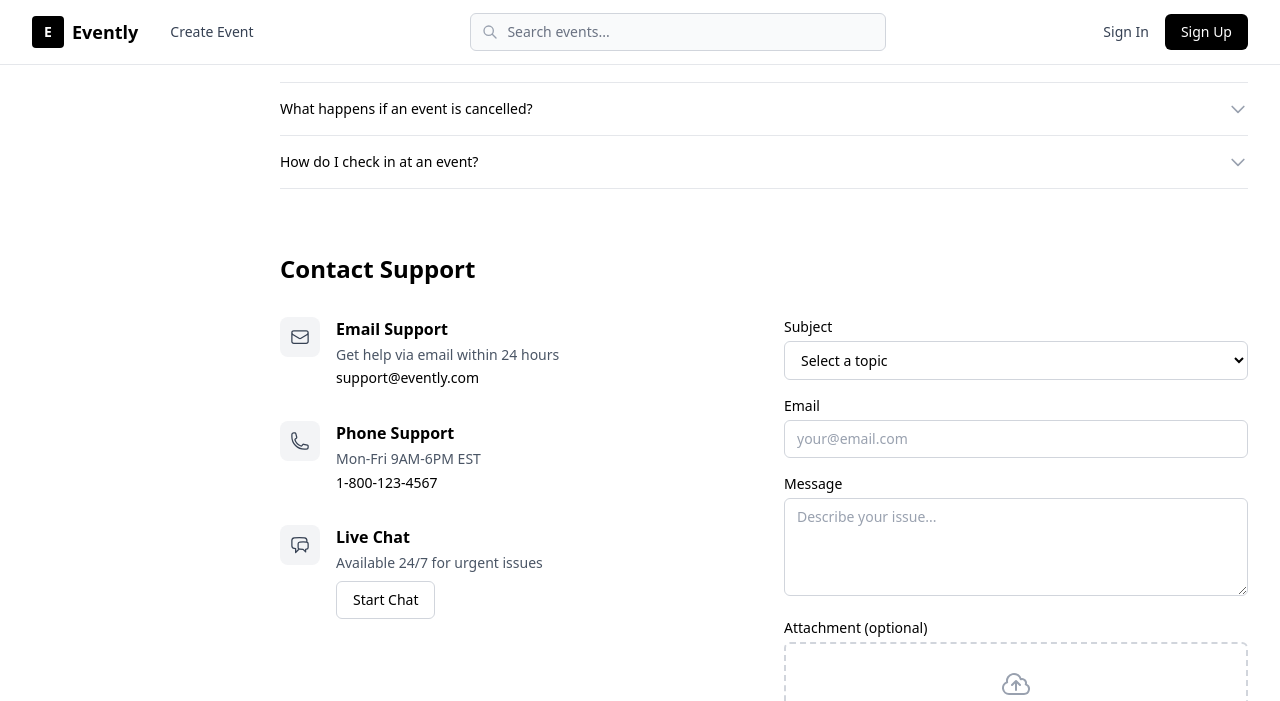
Test: HelpPage › submits the contact form successfully
(page scrolled)
Select "Bug Report" in the dropdown labelled "Subject" at [1016, 360], box left=784, top=341, right=1248, bottom=380
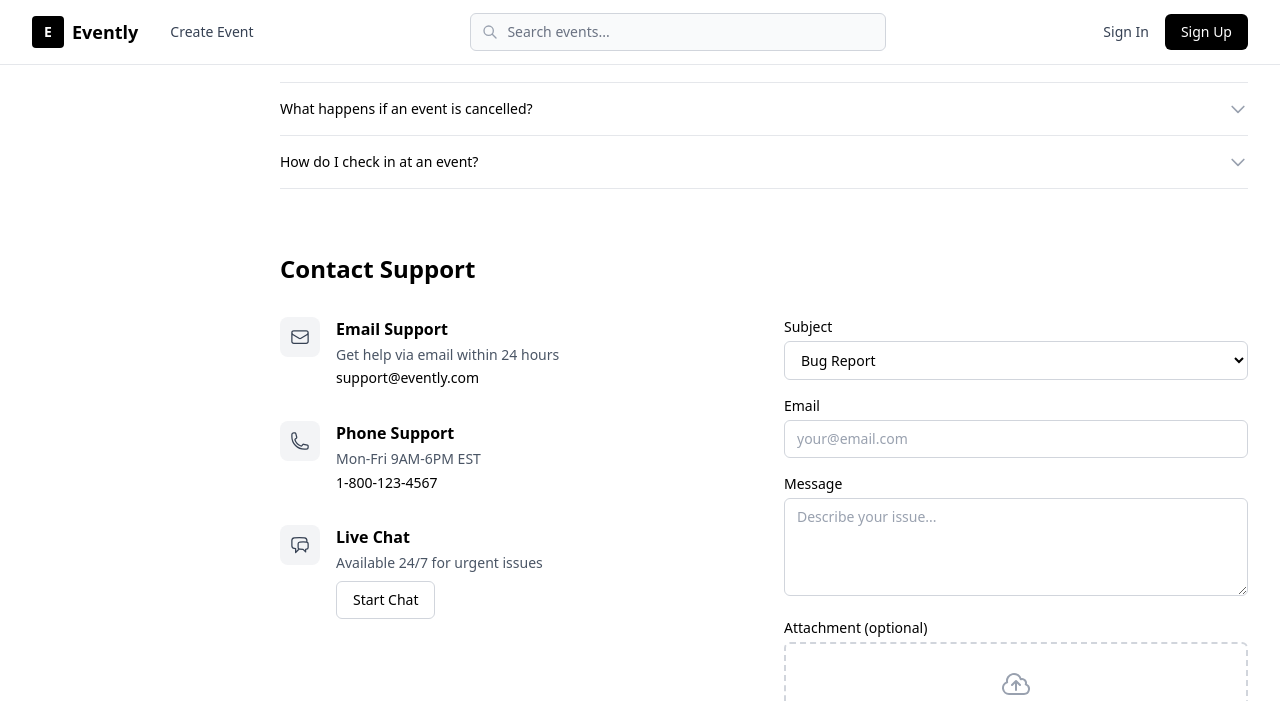
Type "test@example.com" into the field labelled "Email" at [1016, 439], box left=784, top=420, right=1248, bottom=458
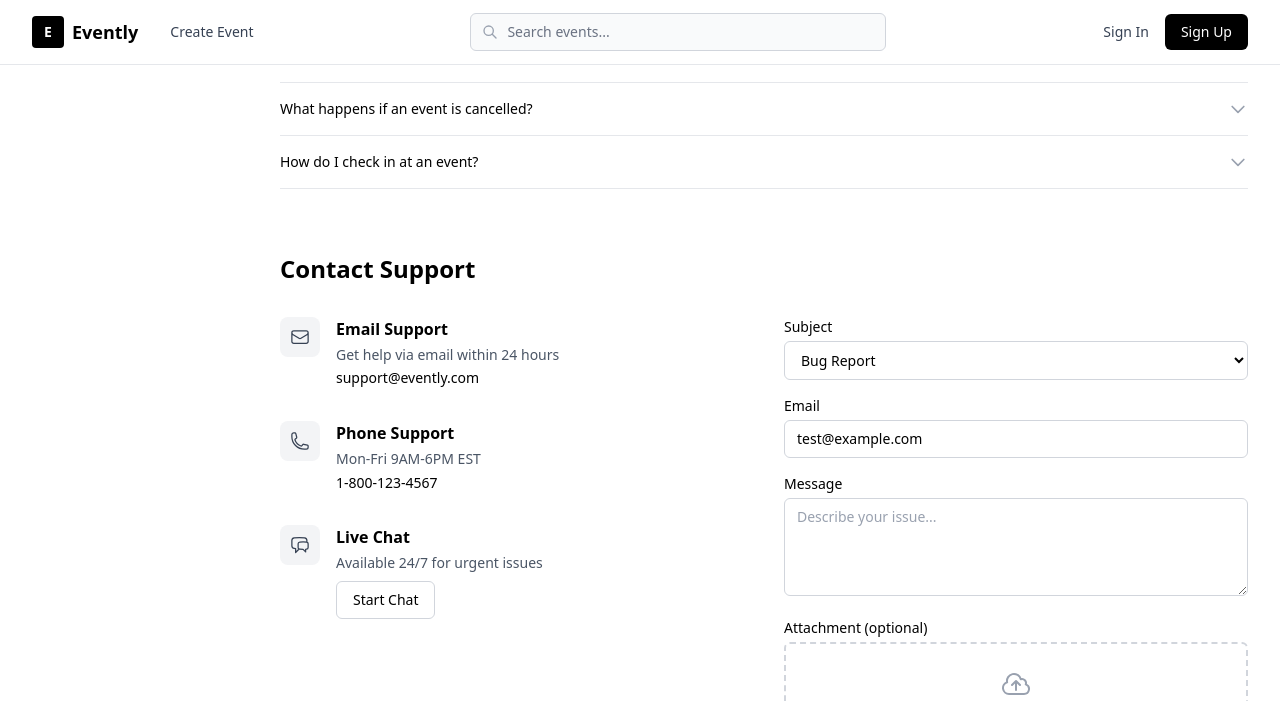
Type "Something is broken" into the text box labelled "Message" at [1016, 547], box left=784, top=498, right=1248, bottom=596
(page scrolled)
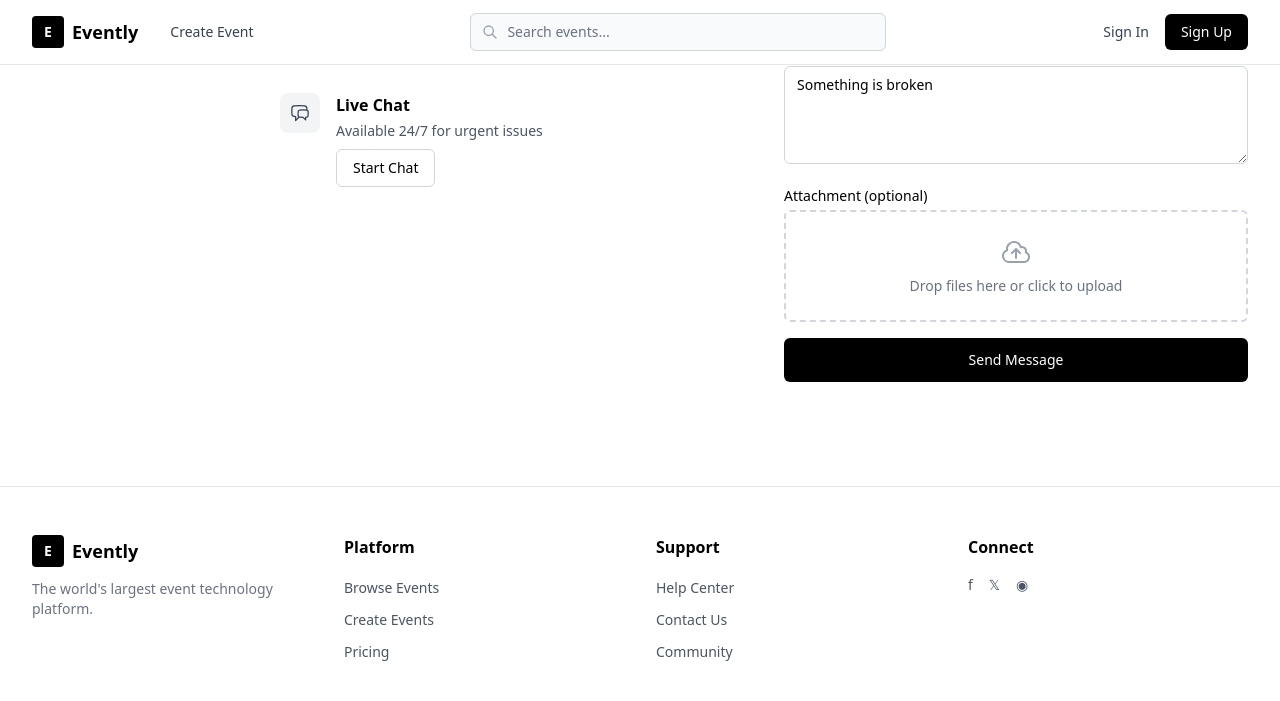
Click the button "Send Message" at [1016, 360], box left=784, top=338, right=1248, bottom=382
(page scrolled)
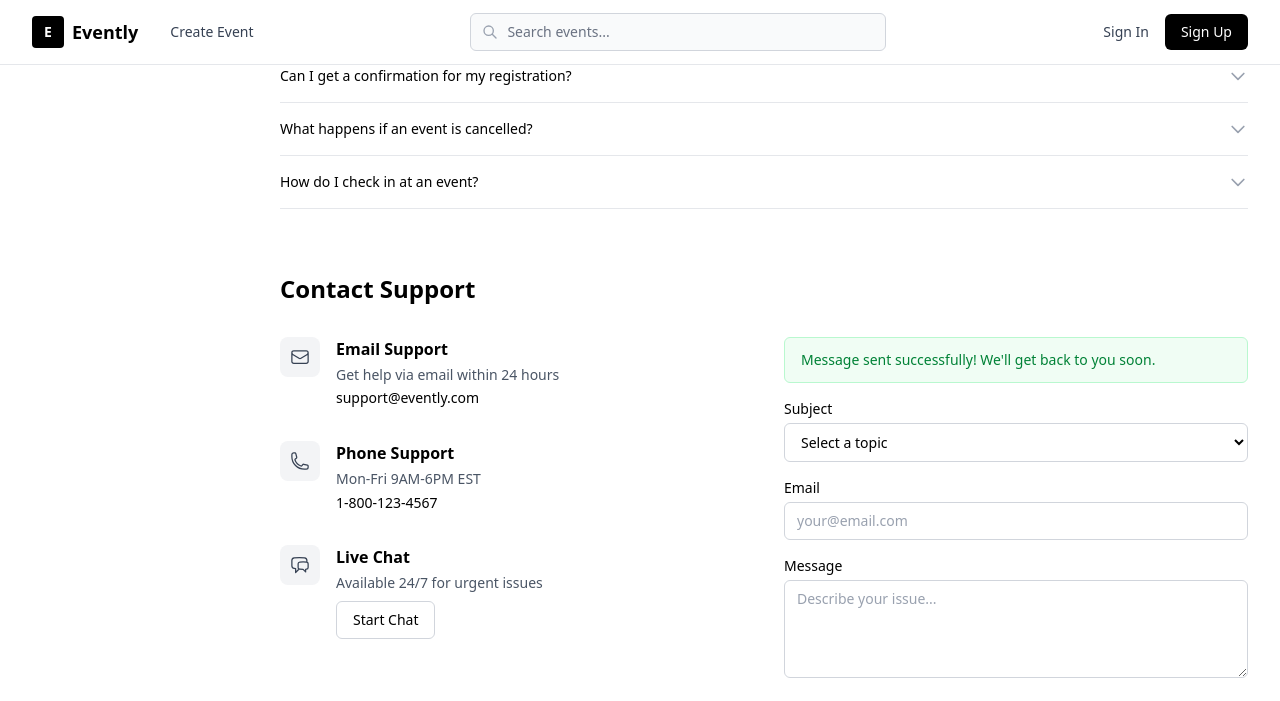
Expected: the text "Message sent successfully! We'll get back to you soon." is shown, left=784, top=337, right=1248, bottom=383
